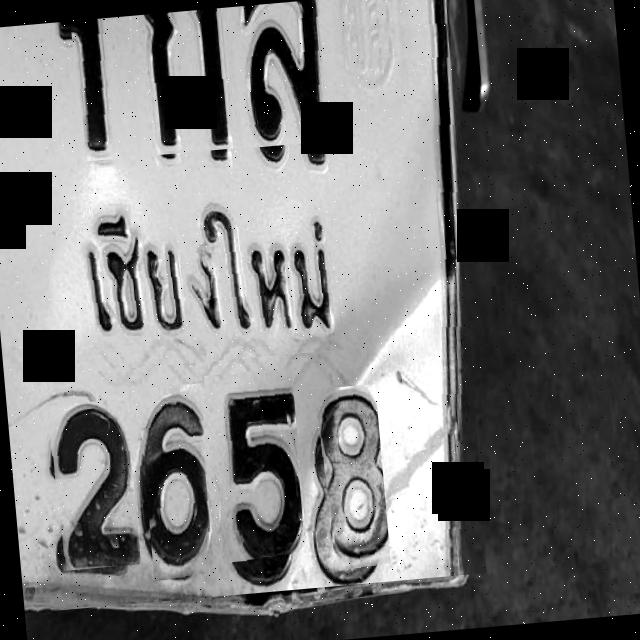letters: (204, 368, 308, 564), (46, 398, 140, 571), (128, 7, 236, 156), (138, 382, 218, 582), (230, 0, 332, 148), (313, 384, 391, 572), (70, 17, 127, 161)
license-plate: (0, 15, 462, 601)
province: (64, 178, 358, 372)
